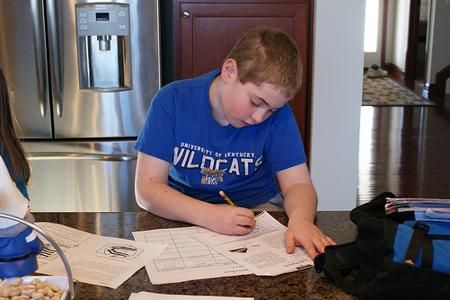person: (134, 26, 338, 262)
